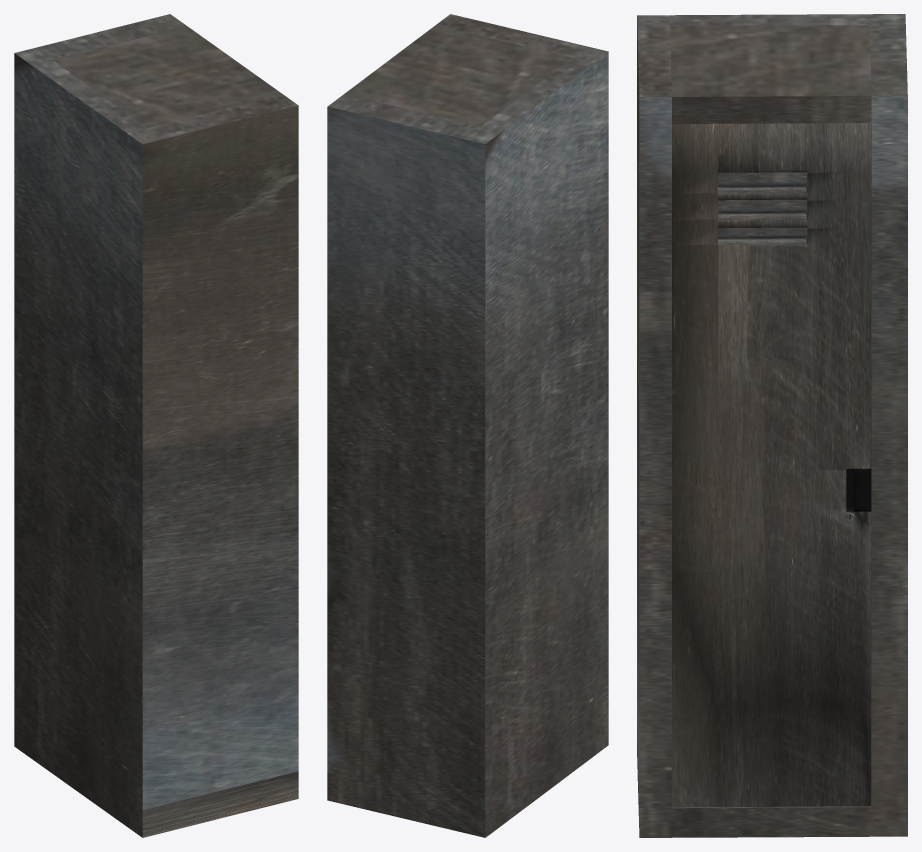
File: lockerAsset.glb
3 renders of one model, left to right at view 1: azimuth 30°, elevation 25°; view 2: azimuth 150°, elevation 25°; view 3: azimuth 270°, elevation 25°, orthographic. The views are drawn at different scales.
Visible parts, largest first — view 1: Locker; view 2: Locker; view 3: Locker.
Part boxes in pixels (<box>): Locker: <box>14,14,298,837</box>; Locker: <box>327,14,608,837</box>; Locker: <box>637,14,907,837</box>.
Size of the model in its own units: 0.7719 by 3.21 by 1.06.
3 materials, 3 textured.
